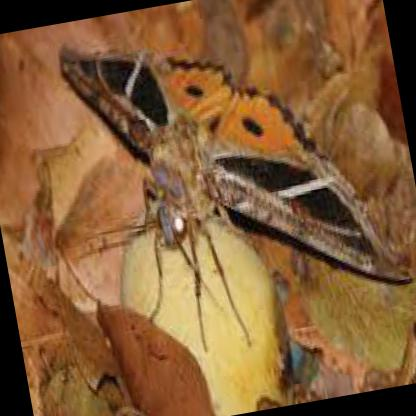fruit sucking moth: (59, 45, 413, 280)
